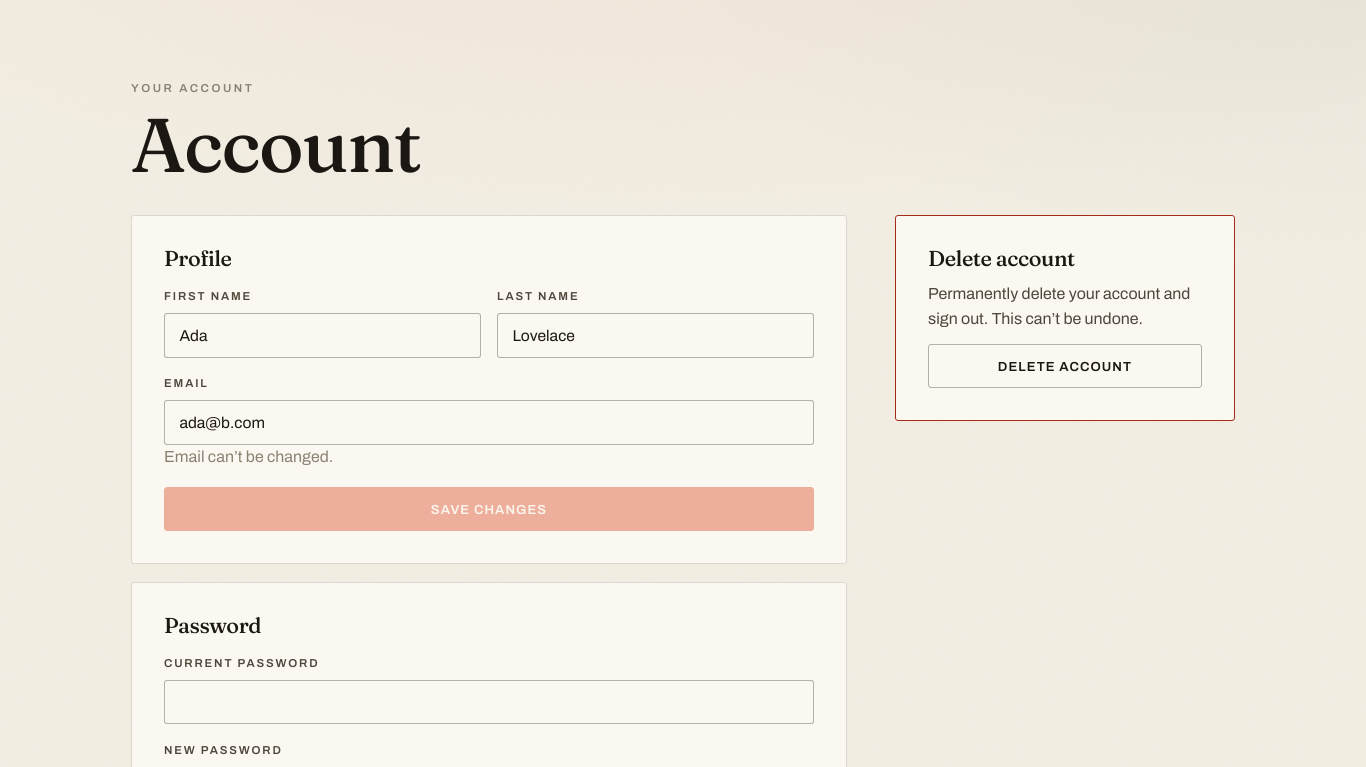
Scenario: AccountPage › shows a wrong current password next to that field
Type "wrong-one" into the password field labelled "Current password" at (489, 702), box 164,680 -> 814,724
(page scrolled)
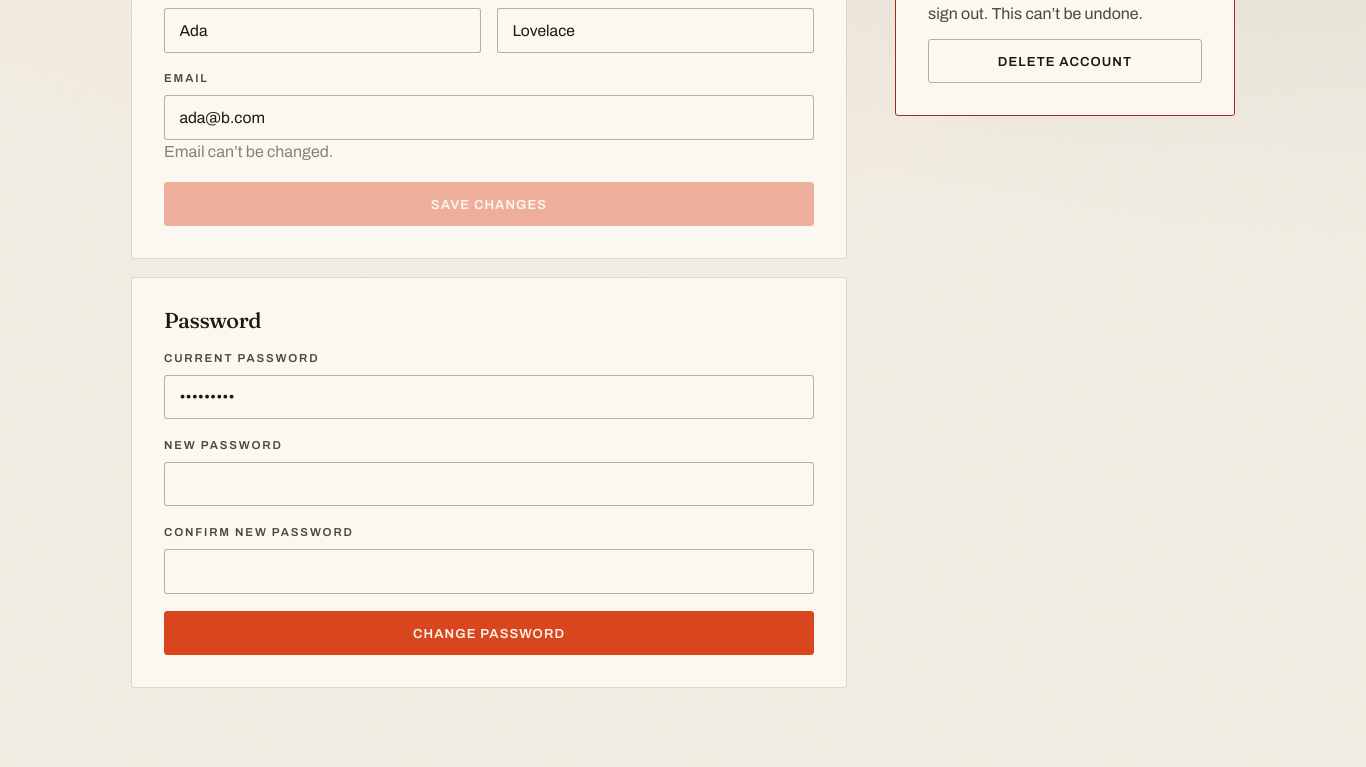
Type "new-secret" into the password field labelled "New password" at (489, 484), box 164,462 -> 814,506
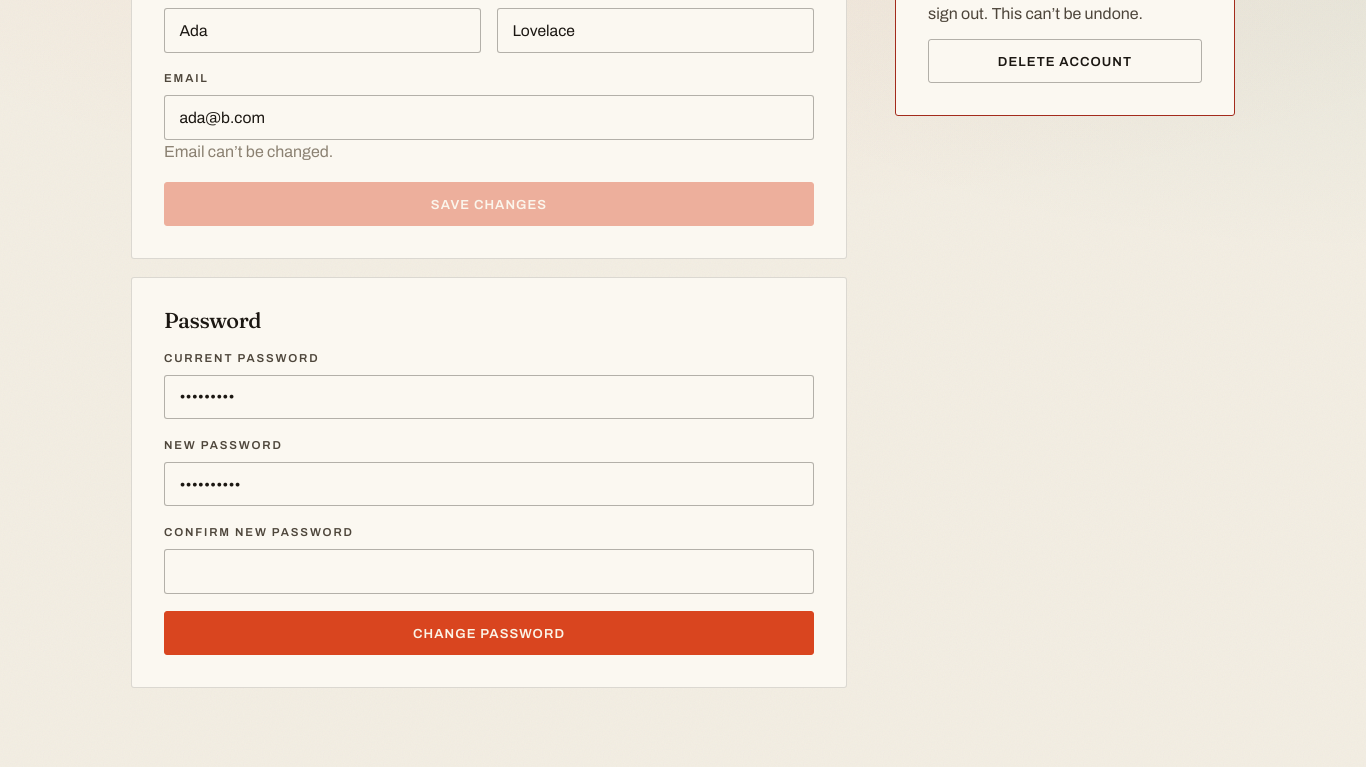
Type "new-secret" into the password field labelled "Confirm new password" at (489, 571), box 164,549 -> 814,594
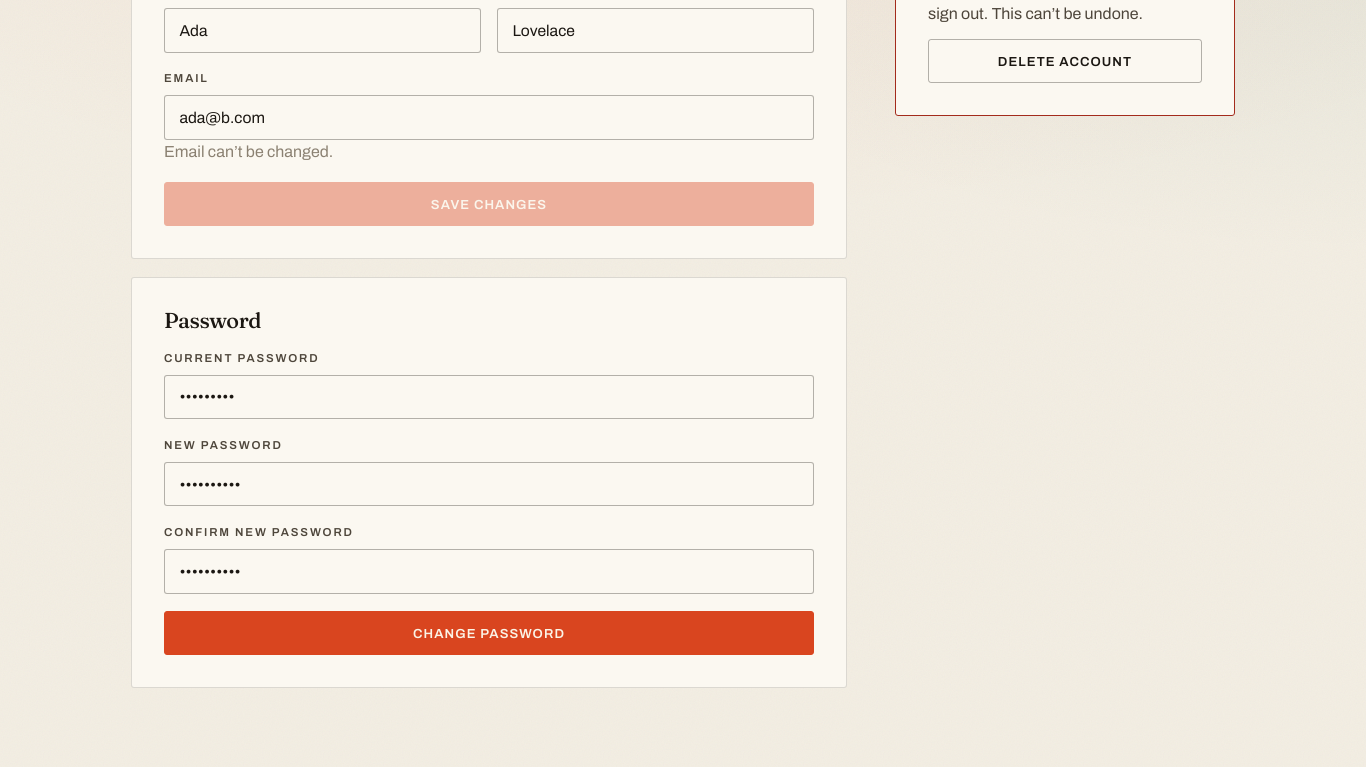
Click the button "Change password" at (489, 633), box 164,611 -> 814,656
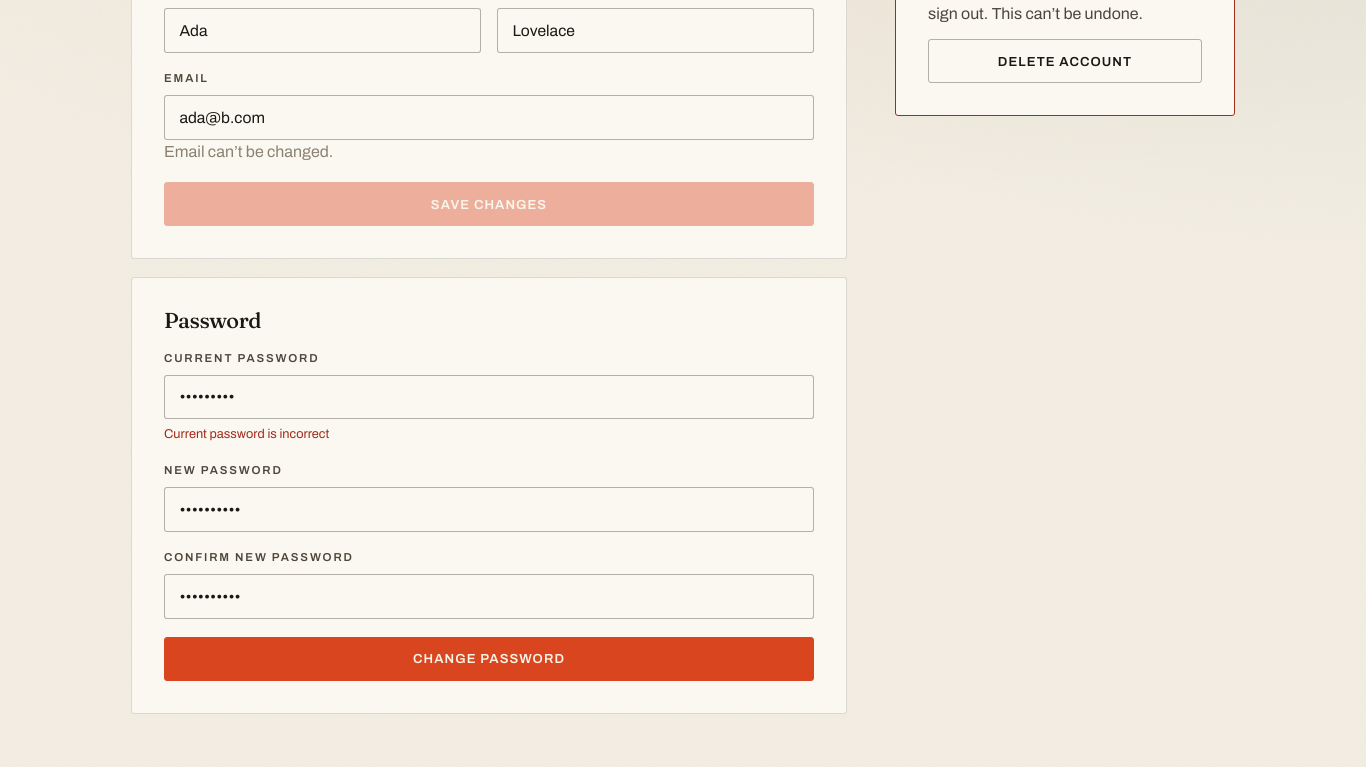
Expected: the text "Current password is incorrect" is shown, 164,427 -> 329,441
